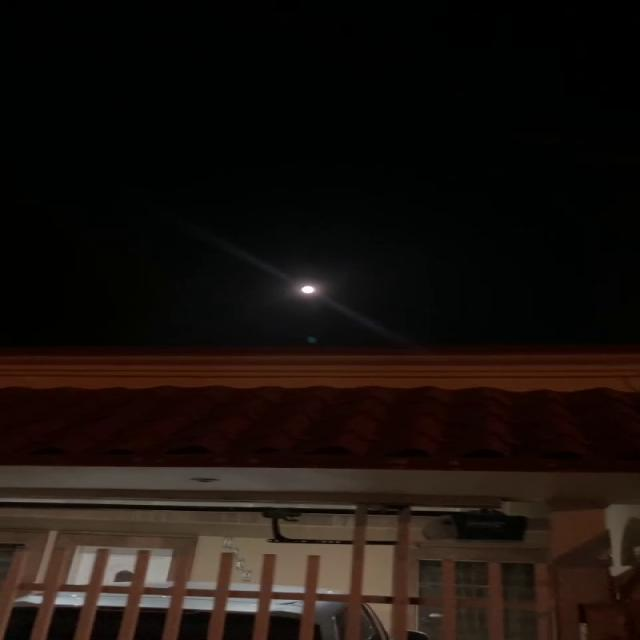moon: (291, 268, 325, 299)
